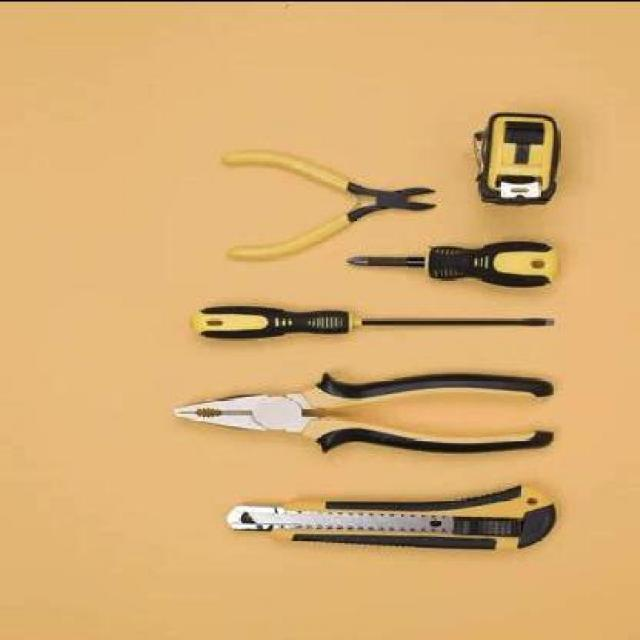pliers: (167, 358, 562, 458)
